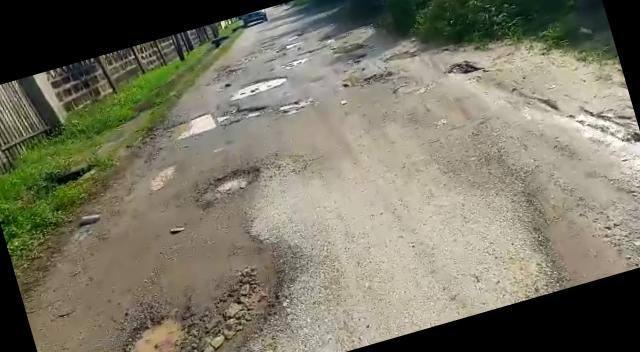pothole: (102, 260, 321, 352), (164, 97, 272, 143), (191, 158, 270, 206), (226, 70, 292, 101), (276, 96, 314, 118)
